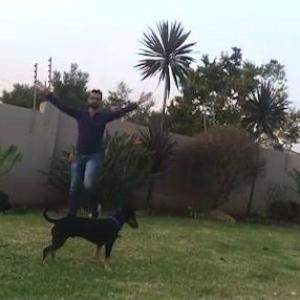takeoff: (47, 83, 162, 215)
